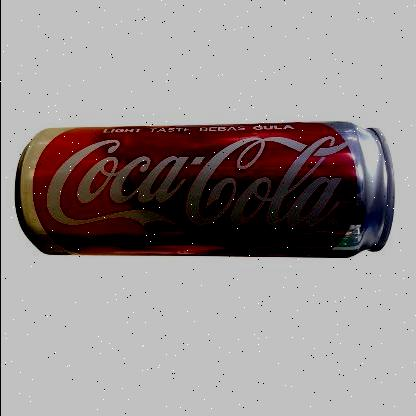Can: (13, 122, 390, 258)
